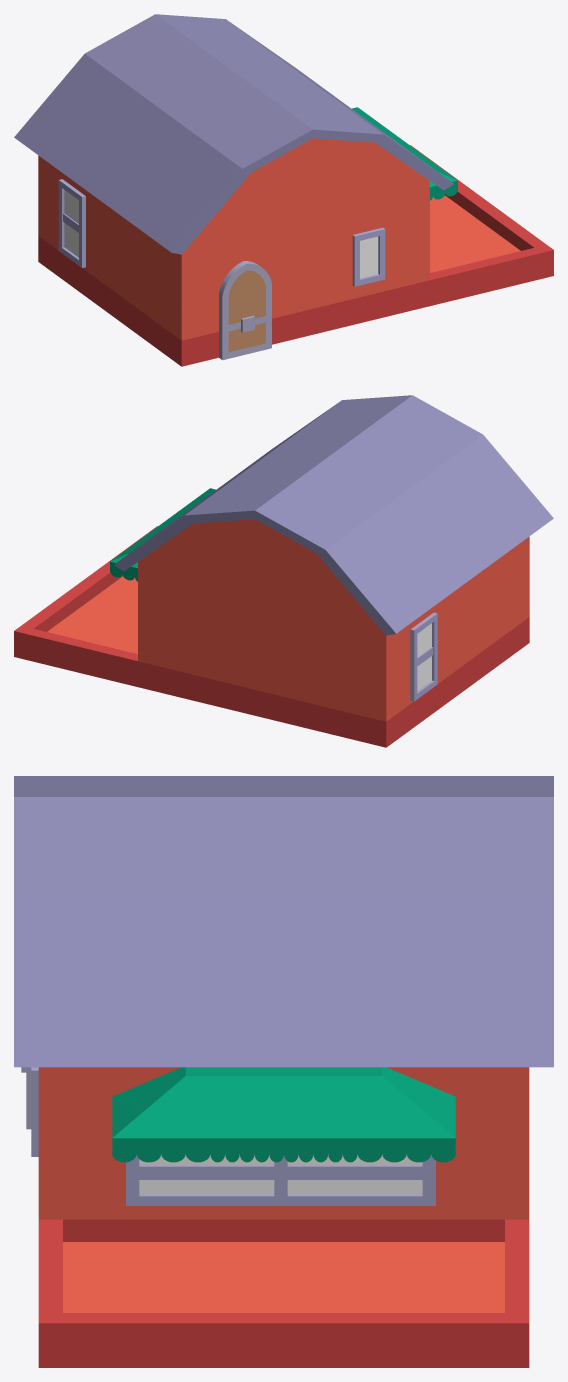
Rendered from house.fbx.
3 renders of one model, top to bottom at view 1: azimuth 30°, elevation 25°; view 2: azimuth 150°, elevation 25°; view 3: azimuth 270°, elevation 25°, orthographic. The views are drawn at different scales.
Parts seen in each view (by area): view 1: mergedBlocks; view 2: mergedBlocks; view 3: mergedBlocks.
Boxes of the visible parts, x1,y1,x2,y2 form: mergedBlocks: [14, 14, 553, 366]; mergedBlocks: [14, 395, 553, 747]; mergedBlocks: [14, 776, 553, 1367].
Size of the model in its own units: 31.39 by 16.34 by 22.
